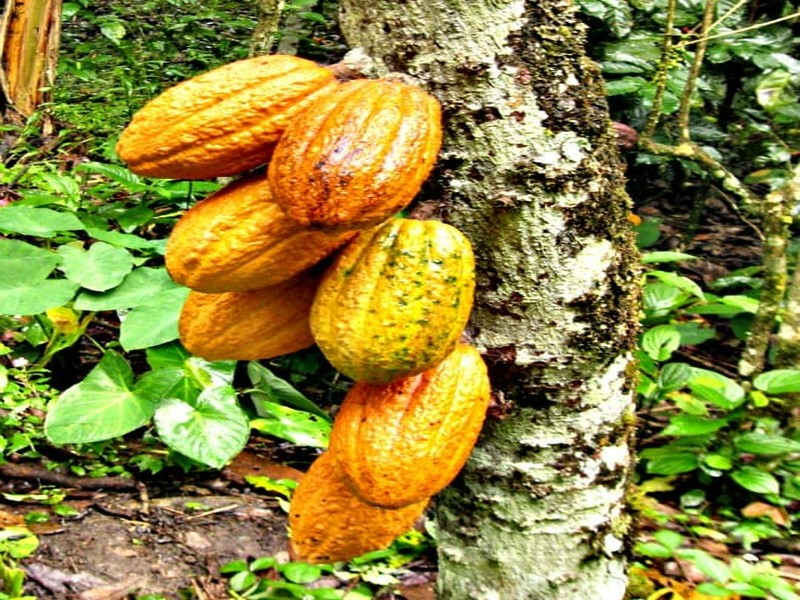Cacaopod: (307, 215, 481, 388), (115, 56, 344, 181), (330, 339, 489, 508), (268, 77, 441, 232)
